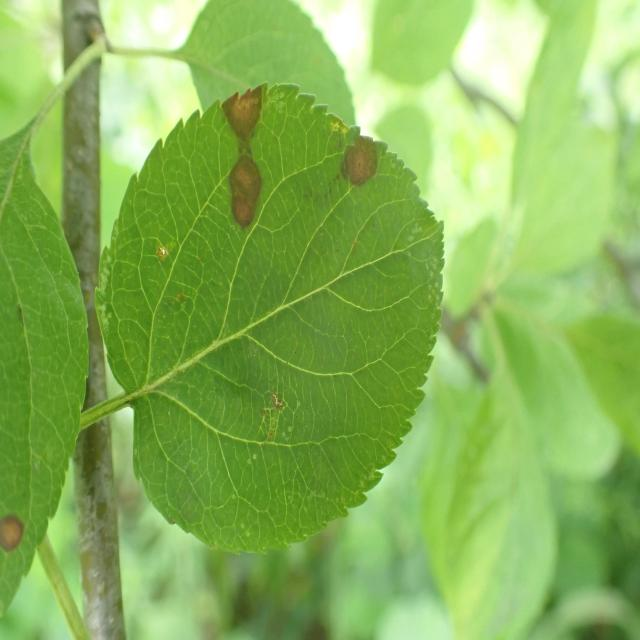Black Rot: (216, 146, 278, 257), (213, 82, 278, 149), (337, 123, 383, 205), (0, 508, 31, 559)
